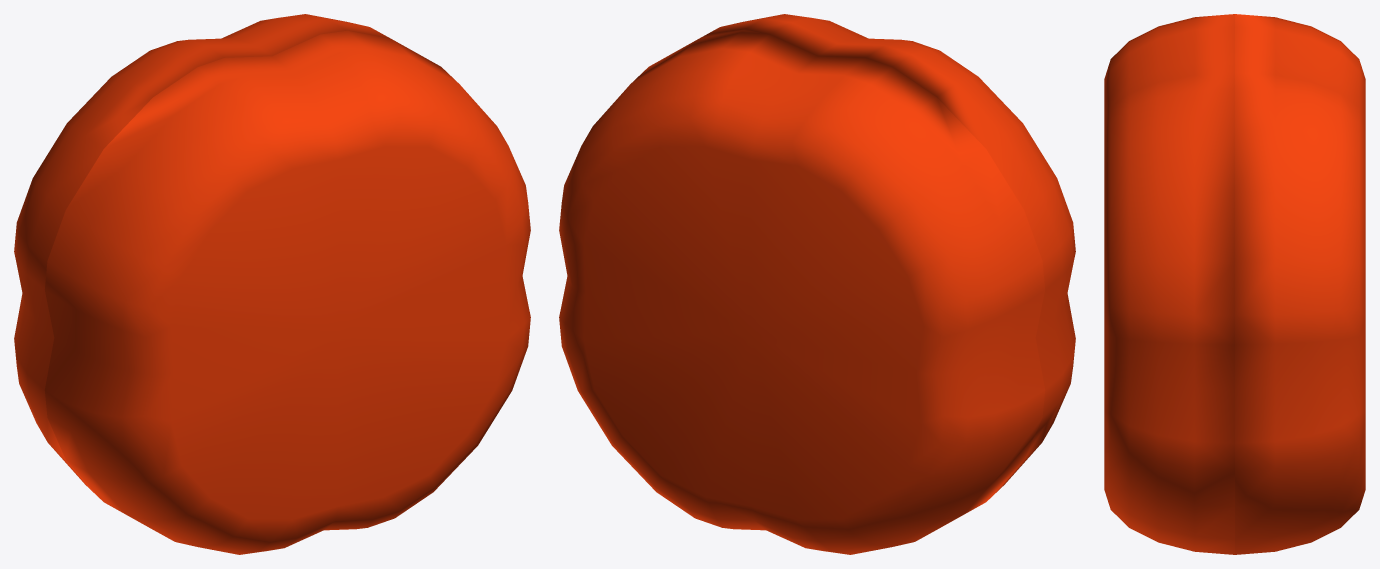
The model's file is buoy_buoyancy.FBX.
The picture shows the model from 3 angles, left to right: view 1: azimuth 30°, elevation 25°; view 2: azimuth 150°, elevation 25°; view 3: azimuth 270°, elevation 25°; orthographic projection.
Parts seen in each view (by area): view 1: buoyancy; view 2: buoyancy; view 3: buoyancy.
Boxes of the visible parts, x1=… form: buoyancy: x1=14, y1=14, x2=530, y2=554; buoyancy: x1=559, y1=14, x2=1075, y2=554; buoyancy: x1=1104, y1=14, x2=1365, y2=554.
Bounding box in the file's own units: 0.145 × 0.0732 × 0.145.
